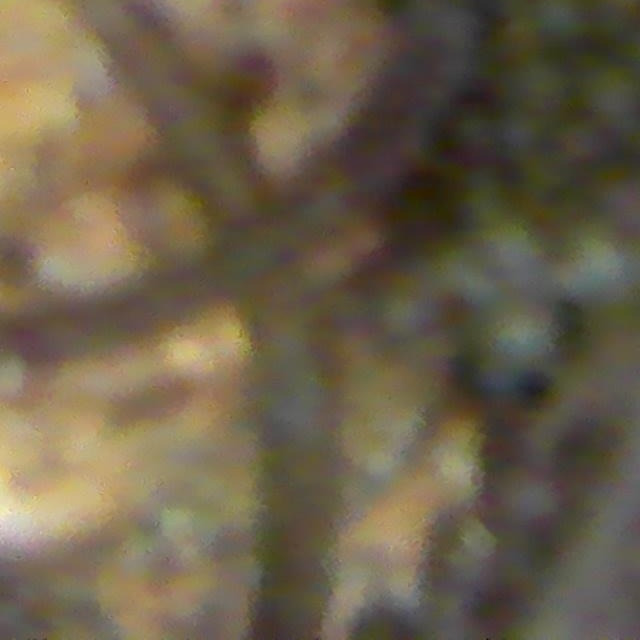SeaGrape: (465, 442, 572, 535), (482, 300, 556, 377), (505, 53, 570, 116), (580, 63, 640, 129), (528, 0, 592, 45)
